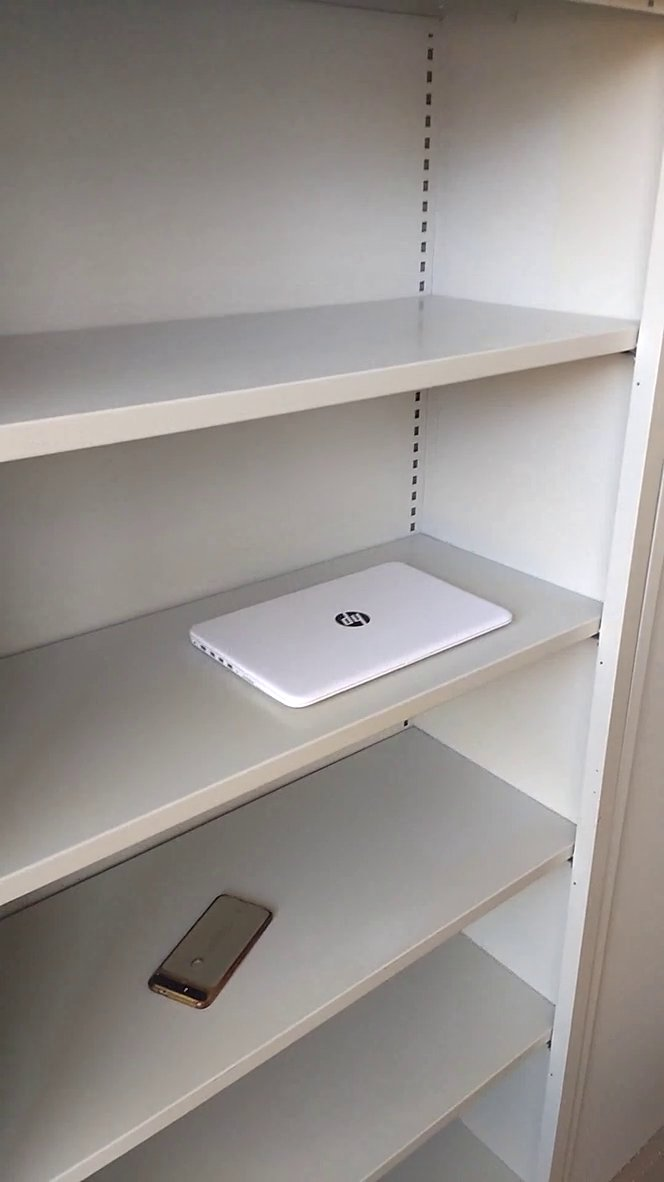laptop: (181, 552, 529, 718)
phone: (143, 884, 285, 1020)
